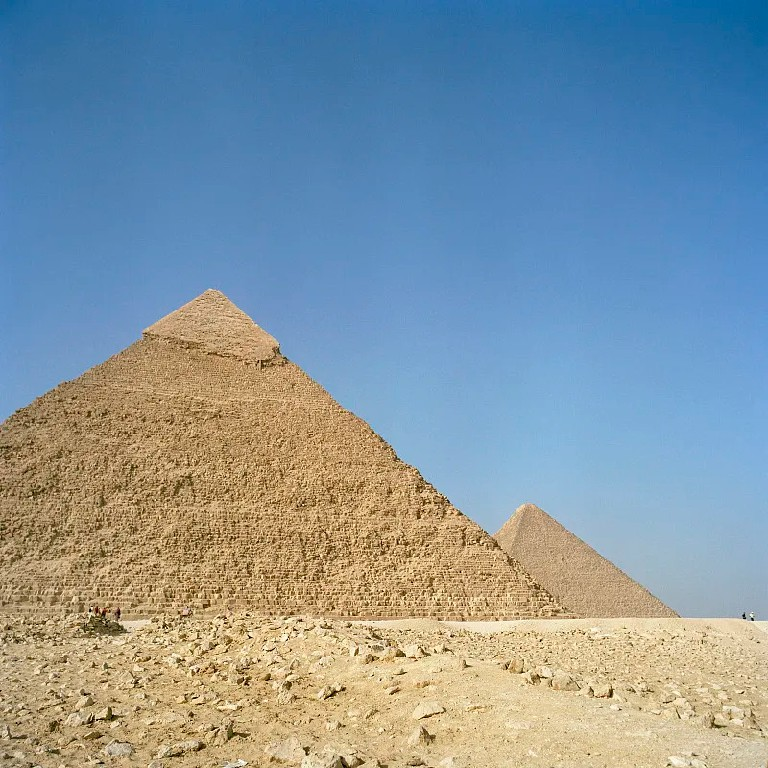Pyramid: (2, 289, 575, 620), (494, 504, 684, 617)
